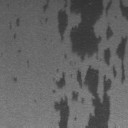red iron: (52, 0, 128, 128), (8, 18, 20, 40), (42, 0, 50, 12), (14, 77, 18, 82), (64, 54, 67, 60), (46, 18, 48, 23)
